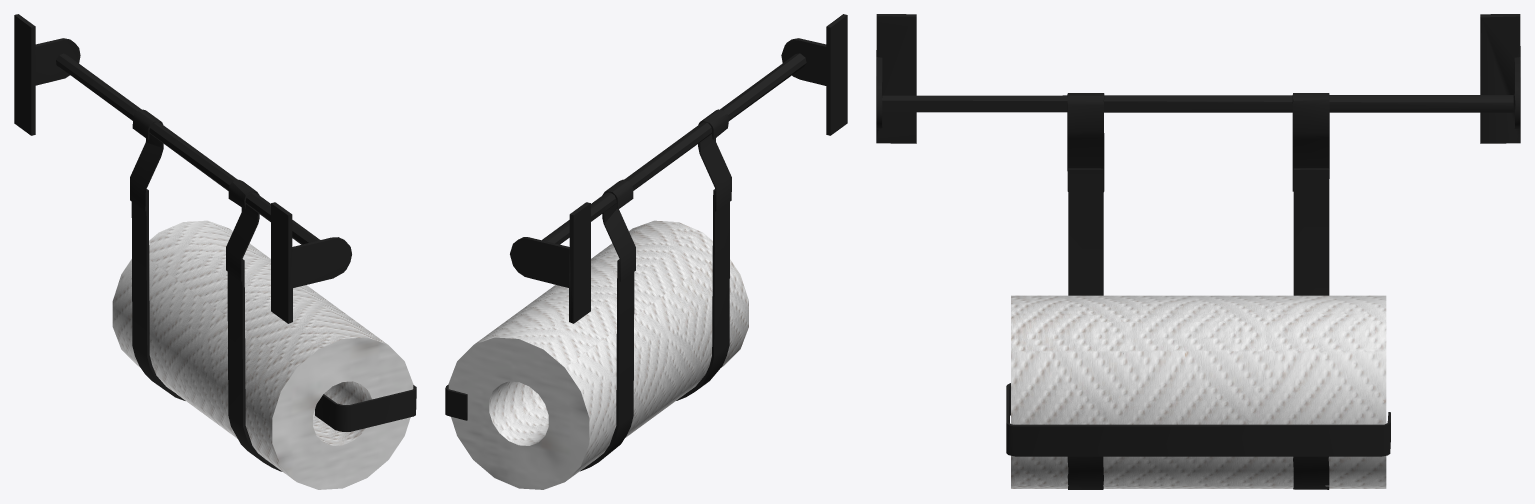
The model's file is Kitchen paper.FBX.
The picture shows the model from 3 angles, left to right: view 1: azimuth 30°, elevation 25°; view 2: azimuth 150°, elevation 25°; view 3: azimuth 270°, elevation 25°; orthographic projection. The views are drawn at different scales.
Parts seen in each view (by area): view 1: Kitchen paper; view 2: Kitchen paper; view 3: Kitchen paper.
Part boxes in pixels (box(x1,y1,x2,y2)): Kitchen paper: box(14, 14, 416, 489); Kitchen paper: box(445, 14, 847, 489); Kitchen paper: box(876, 14, 1520, 489).
Bounding box in the file's own units: 126 × 220 × 320.
Materials: 2 (1 with a texture image).
